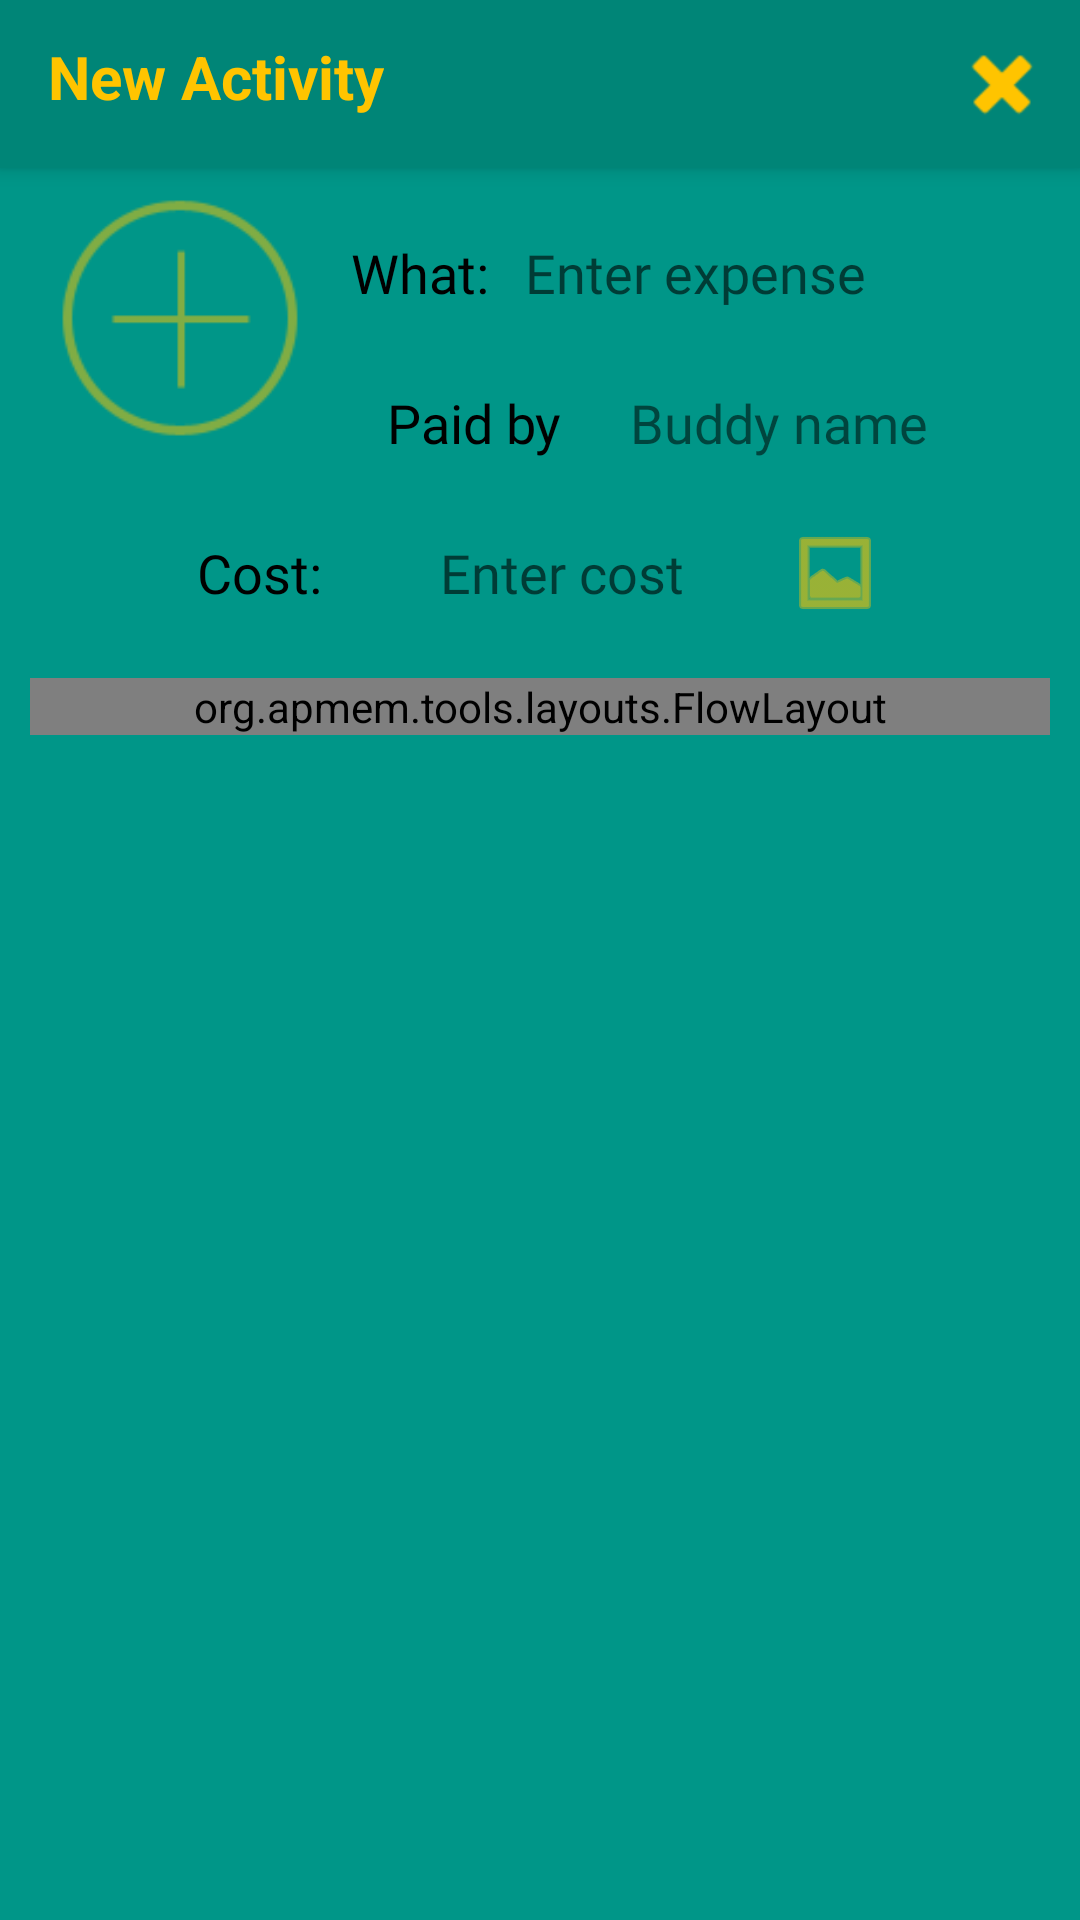

Named icons in this screenshot (1080 x 1920) and their bounding boxes, {"left": x1, "top": y1, "right": x2, "bottom": y2}:
delete: {"left": 971, "top": 55, "right": 1033, "bottom": 114}
gallery: {"left": 799, "top": 537, "right": 871, "bottom": 609}
